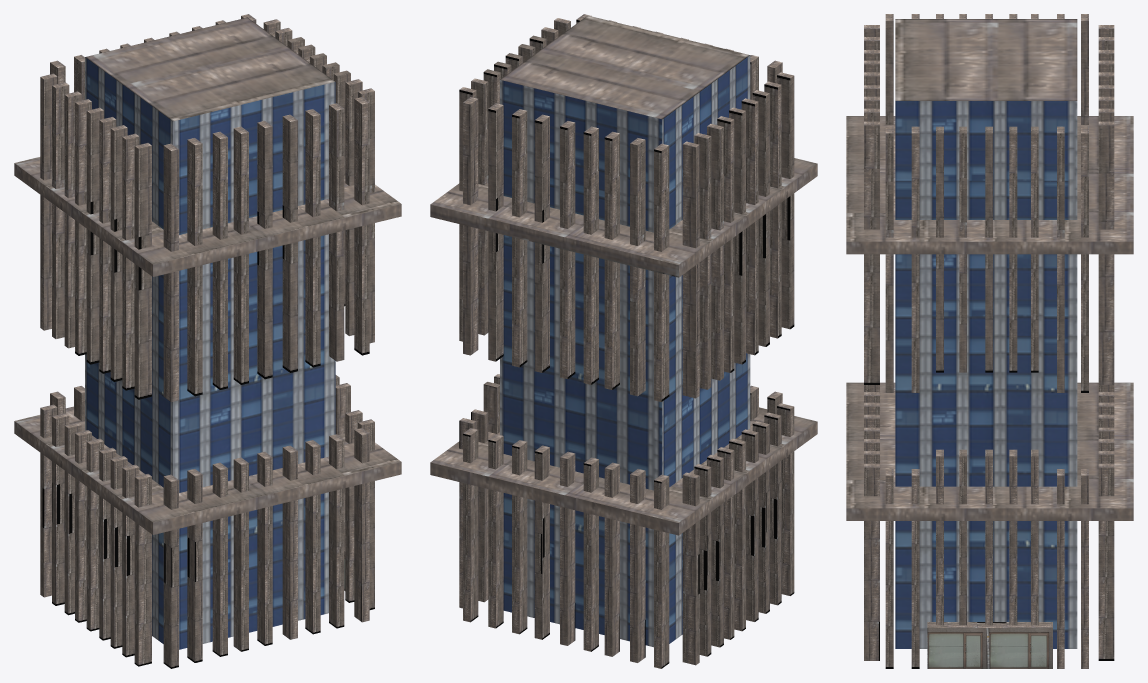
File: LargeBuilding_EmptyMiddle.fbx
3 views of the same model, side by side, from view 1: azimuth 30°, elevation 25°; view 2: azimuth 150°, elevation 25°; view 3: azimuth 270°, elevation 25° (orthographic). The views are drawn at different scales.
Parts seen in each view (by area): view 1: pCube388; view 2: pCube388; view 3: pCube388.
Part boxes in pixels (x1,y1,x2,y2): pCube388: (14, 14, 401, 668); pCube388: (430, 14, 817, 668); pCube388: (846, 14, 1133, 668).
Size of the model in its own units: 14.55 by 29.76 by 14.07.
